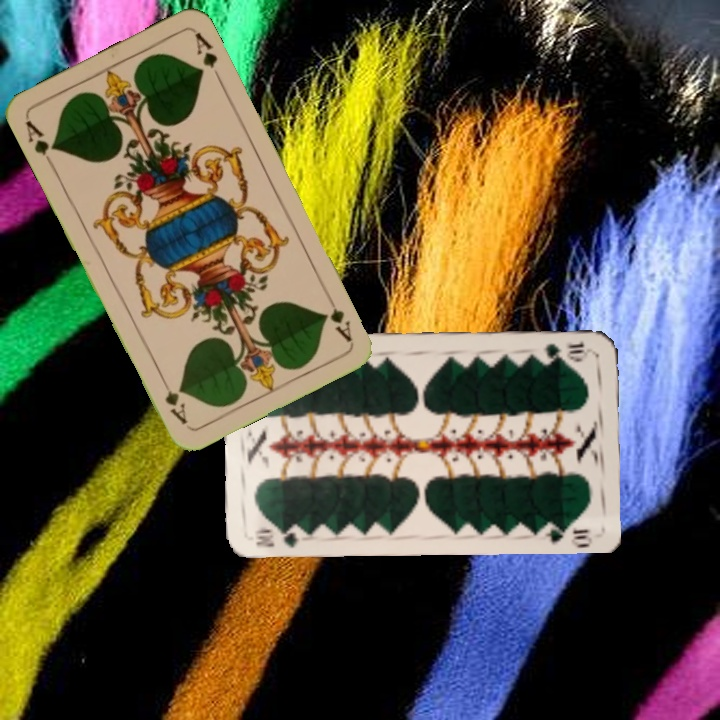G10: (251, 524, 307, 550), (540, 338, 594, 362)
GA: (21, 116, 60, 171), (321, 288, 354, 344)
